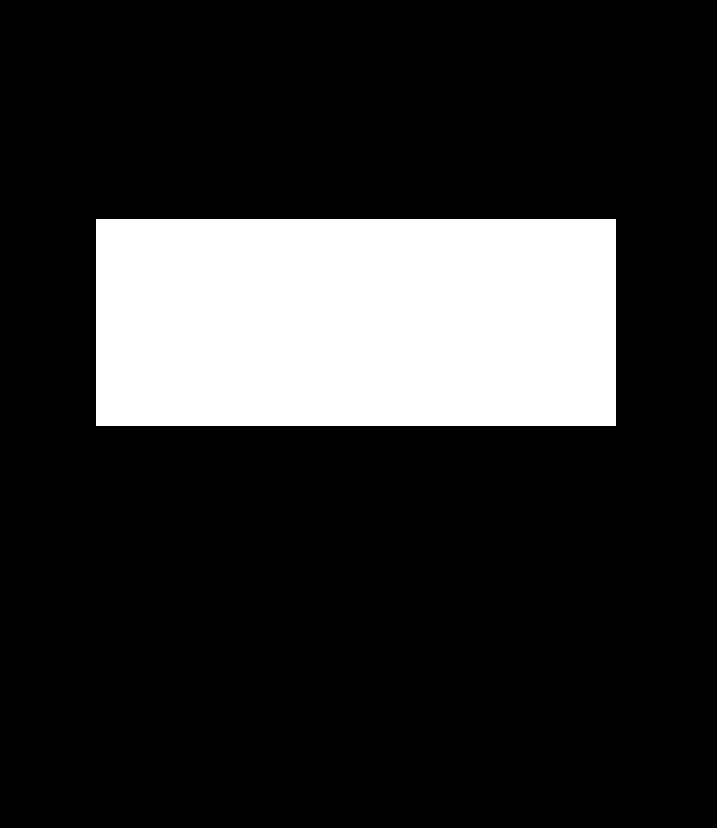table: (96, 219, 615, 425)
